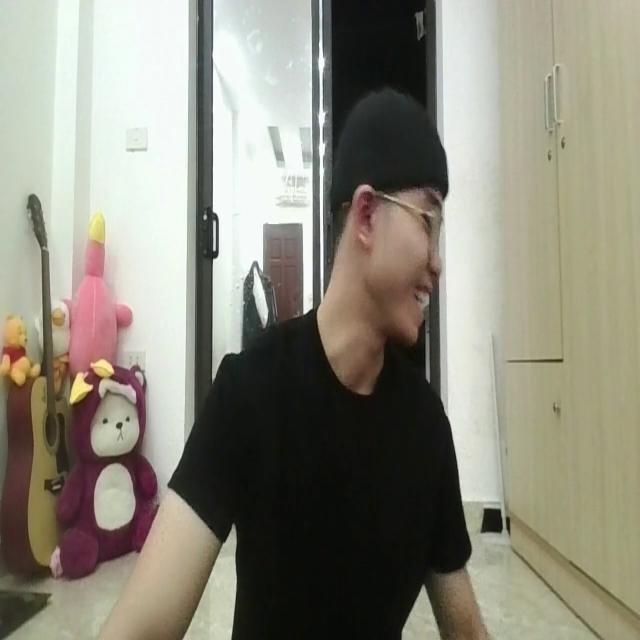student: (77, 83, 495, 640)
